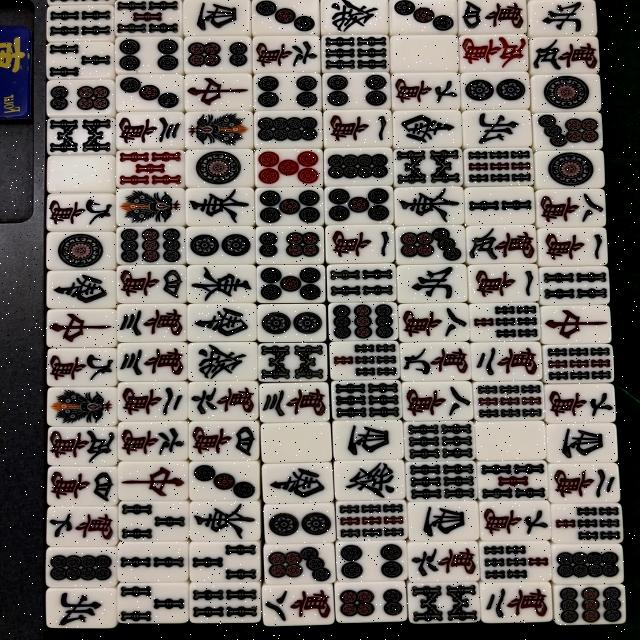bamboos_1: (115, 187, 187, 227), (47, 385, 118, 425), (184, 111, 255, 147)
bamboos_2: (118, 540, 190, 584), (463, 185, 537, 227)
bamboos_3: (116, 582, 191, 624), (118, 500, 191, 541), (44, 40, 117, 80), (187, 544, 263, 582)
bamboos_4: (188, 582, 262, 622), (538, 266, 612, 305), (329, 263, 397, 303), (48, 2, 115, 42)
bamboos_5: (477, 458, 551, 501), (112, 148, 186, 190), (114, 1, 182, 35)
bamboos_6: (405, 460, 478, 503), (329, 380, 403, 422), (405, 420, 475, 462), (322, 33, 390, 72)
bamboos_7: (327, 338, 400, 382), (479, 541, 554, 583), (469, 301, 541, 342), (550, 502, 620, 542)
bamboos_8: (406, 581, 478, 624), (392, 146, 462, 190), (258, 342, 331, 382), (47, 116, 116, 155)
bamboos_9: (336, 501, 407, 543), (544, 343, 616, 384), (474, 381, 547, 420), (463, 145, 533, 185)
characters_1: (320, 108, 396, 150), (467, 262, 539, 302), (535, 227, 608, 266), (327, 223, 395, 263)
characters_2: (114, 380, 190, 421), (548, 463, 622, 503), (482, 582, 552, 622), (472, 342, 543, 381)
characters_3: (115, 300, 189, 342), (256, 381, 330, 422), (117, 110, 186, 151), (117, 341, 188, 380)
characters_4: (190, 418, 262, 461), (116, 265, 186, 303), (50, 466, 118, 504), (457, 0, 528, 36)
characters_5: (467, 223, 539, 265), (460, 32, 530, 73), (528, 35, 600, 74), (48, 427, 118, 464)
characters_6: (118, 419, 191, 461), (405, 541, 480, 581), (252, 34, 322, 73), (189, 381, 257, 420)
characters_7: (543, 380, 616, 423), (479, 500, 550, 541), (49, 506, 120, 546), (389, 73, 462, 110)
characters_8: (260, 584, 335, 626), (395, 304, 472, 342), (537, 187, 608, 227), (404, 380, 473, 420)
characters_9: (46, 194, 114, 234), (48, 347, 118, 385), (402, 342, 469, 380)
circles_1: (184, 148, 256, 190), (531, 150, 607, 188), (47, 231, 116, 271), (534, 73, 602, 113)
circles_2: (262, 502, 336, 543), (258, 303, 329, 343), (185, 224, 255, 264), (461, 73, 531, 112)
circles_3: (187, 460, 261, 500), (248, 0, 320, 36), (387, 0, 457, 35), (117, 73, 181, 111)
circles_4: (336, 539, 409, 581), (250, 73, 321, 112), (322, 72, 390, 110), (116, 36, 183, 73)
circles_5: (324, 183, 396, 225), (252, 148, 326, 188), (255, 186, 326, 225), (258, 266, 327, 302)
circles_6: (336, 581, 408, 621), (258, 224, 328, 265), (181, 36, 251, 74), (49, 78, 117, 116)
circles_7: (264, 543, 336, 584), (393, 225, 467, 263), (534, 113, 603, 151)
circles_8: (323, 146, 393, 187), (46, 546, 116, 587), (553, 544, 623, 582), (256, 110, 322, 150)
circles_9: (555, 583, 627, 623), (329, 302, 401, 342), (115, 226, 185, 266)
east: (393, 186, 466, 228), (188, 501, 262, 540), (186, 263, 254, 304), (186, 188, 254, 226)
green: (334, 458, 408, 501), (189, 340, 259, 382), (321, 0, 389, 35)
north: (461, 108, 532, 149), (396, 264, 469, 302), (392, 110, 462, 149), (44, 589, 114, 627), (526, 0, 597, 37)
red: (48, 306, 118, 348), (118, 460, 188, 501), (542, 305, 612, 344), (183, 73, 251, 110)
south: (262, 464, 332, 503), (48, 269, 116, 309), (189, 302, 259, 340)
west: (408, 500, 480, 543), (332, 420, 404, 460), (545, 422, 615, 462), (181, 0, 254, 36)
white: (474, 418, 547, 462), (262, 422, 335, 464), (45, 153, 117, 194), (391, 36, 462, 73)
